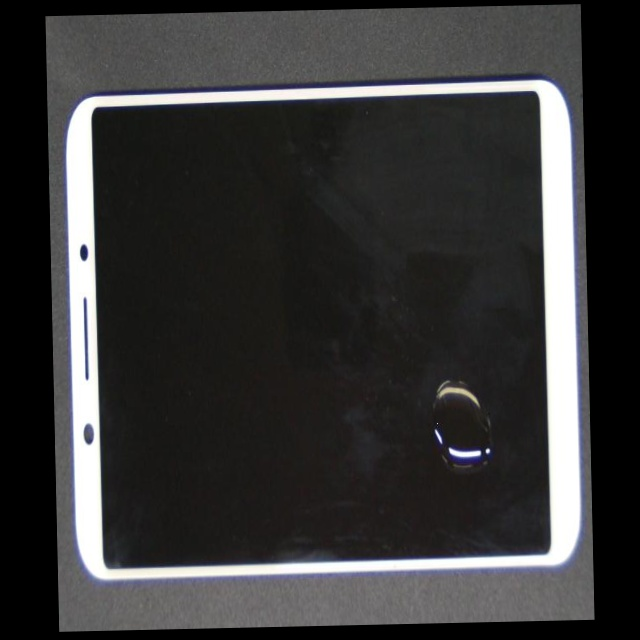oil: (268, 178, 593, 571)
